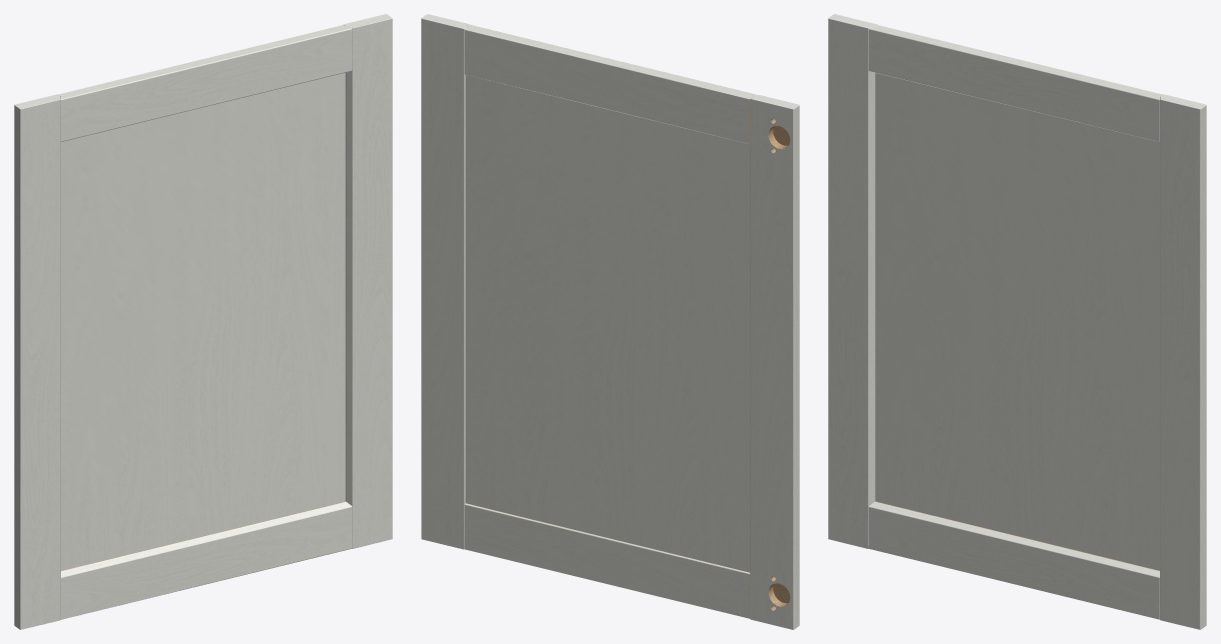
Rendered from enkoping_drzwi_00505774.glb.
3 views of the same model, side by side, from view 1: azimuth 30°, elevation 25°; view 2: azimuth 150°, elevation 25°; view 3: azimuth 330°, elevation 25° (orthographic).
Parts seen in each view (by area): view 1: enkoping_drzwi_00505774; view 2: enkoping_drzwi_00505774; view 3: enkoping_drzwi_00505774.
Boxes of the visible parts, x1=… form: enkoping_drzwi_00505774: x1=14, y1=14, x2=392, y2=629; enkoping_drzwi_00505774: x1=421, y1=14, x2=799, y2=629; enkoping_drzwi_00505774: x1=828, y1=14, x2=1206, y2=629.
Size of the model in its own units: 0.5971 by 0.797 by 0.018.
1 material, 1 textured.
